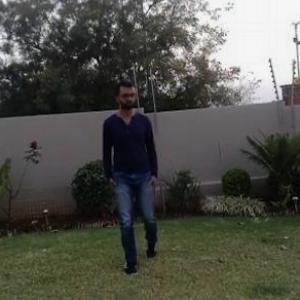follow: (100, 72, 161, 273)
